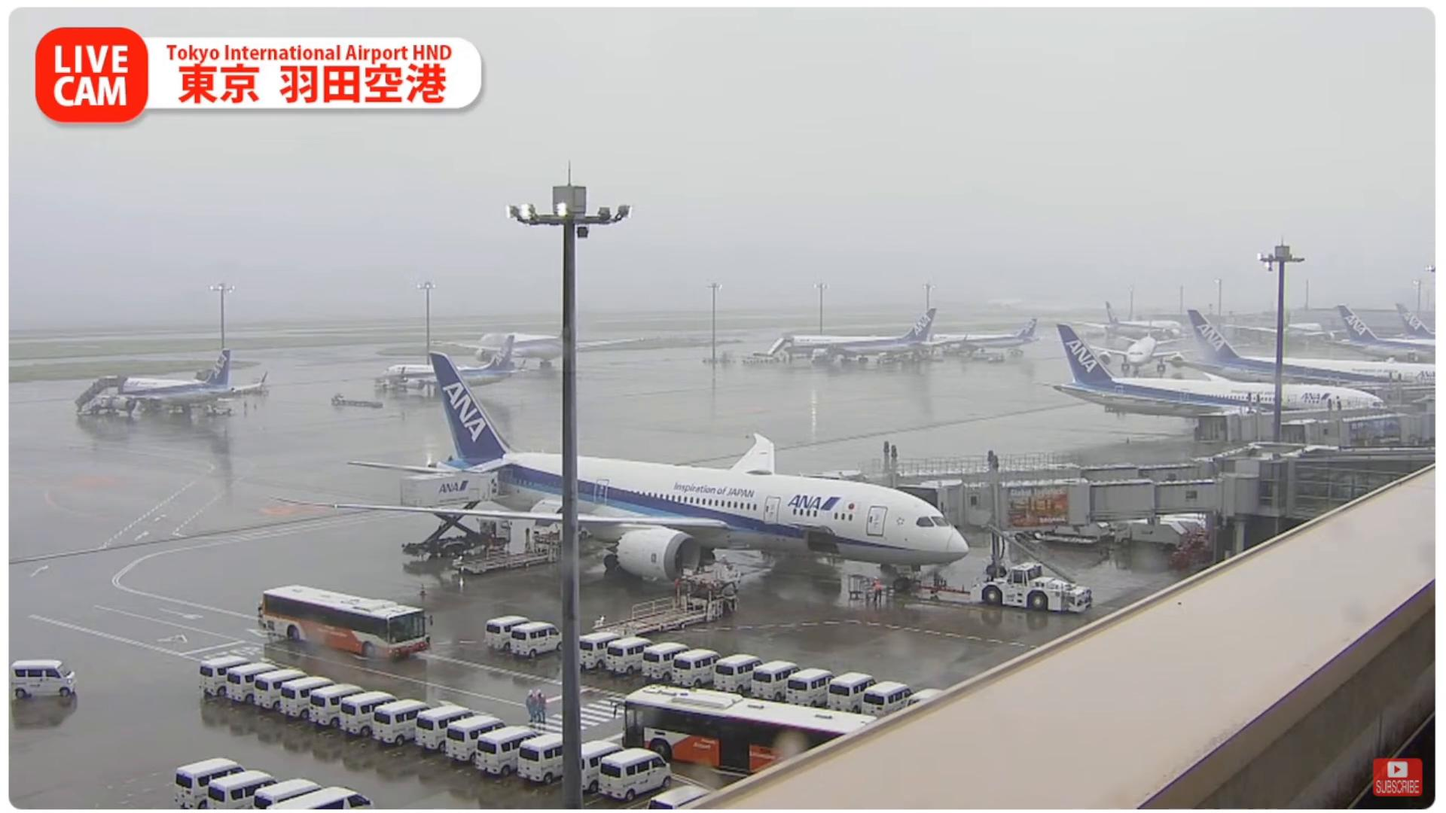APS: (968, 562, 1094, 614)
Aerobridge: (796, 455, 1210, 515), (990, 474, 1182, 535)
Airplane: (270, 351, 970, 592)
Catering: (400, 469, 510, 559)
JCPL: (591, 576, 735, 636), (452, 528, 561, 574)
Window: (1292, 458, 1433, 516)
